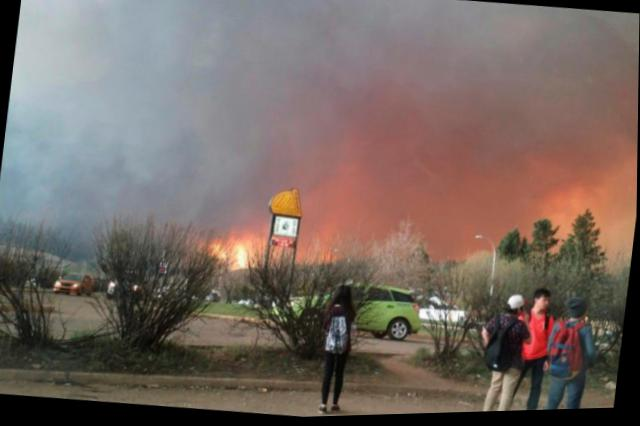fire: (207, 220, 269, 281)
